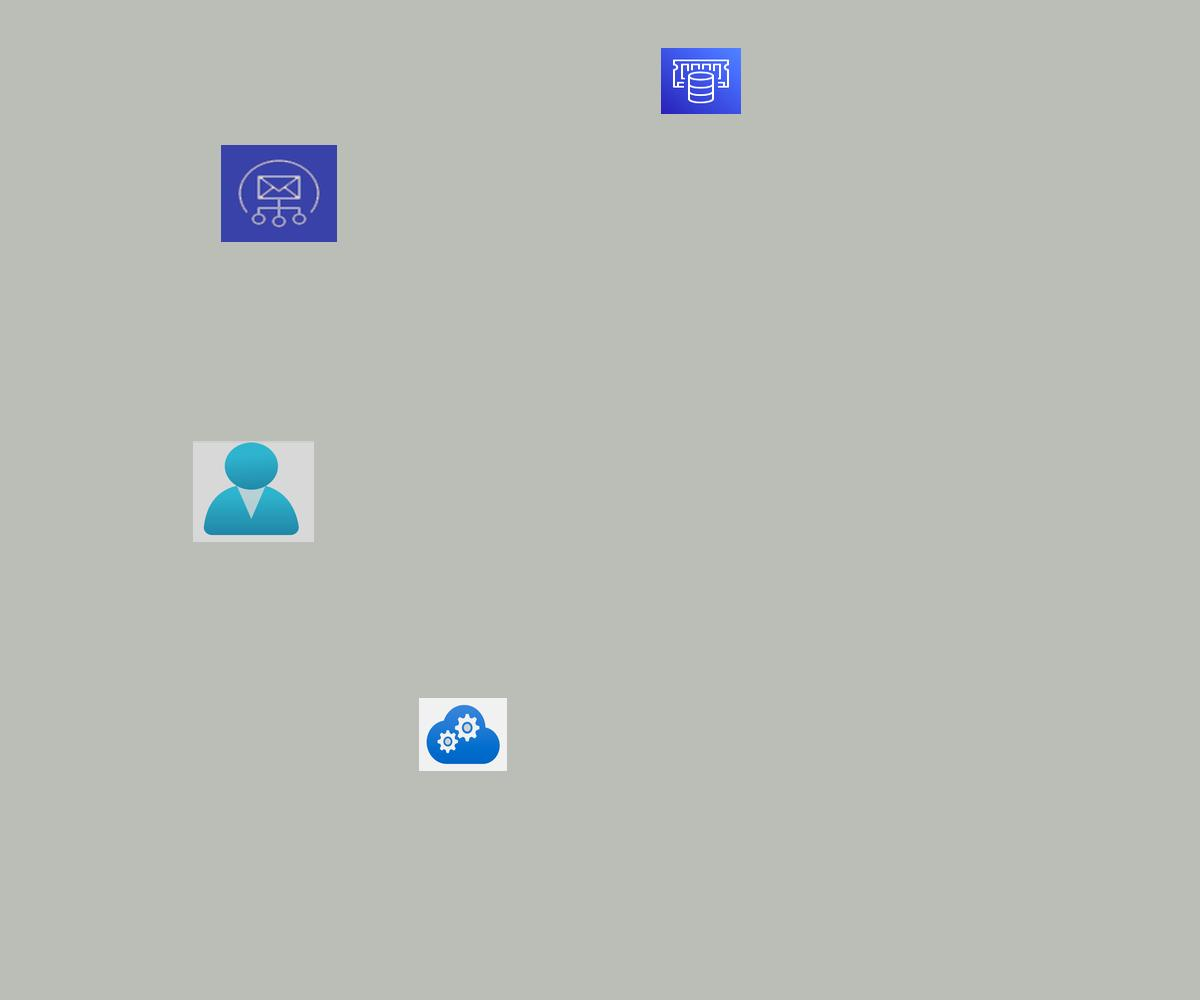AWS-ElastiCache: (661, 48, 741, 114)
AWS-Simple-Email-Service: (221, 145, 337, 242)
Azure_cloud_services: (419, 698, 507, 771)
Azure_users: (193, 441, 314, 542)
